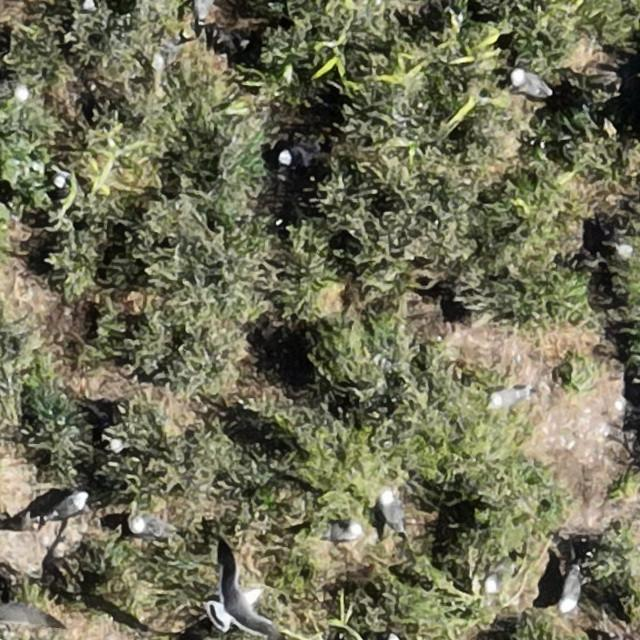F: (214, 557, 270, 633)
umineko: (131, 515, 180, 538), (151, 38, 184, 69), (510, 72, 548, 97), (383, 494, 406, 530), (50, 494, 85, 517), (563, 576, 582, 611), (613, 221, 630, 260), (490, 389, 526, 407), (280, 149, 311, 169), (332, 523, 361, 541), (484, 572, 502, 594), (194, 0, 210, 19)
